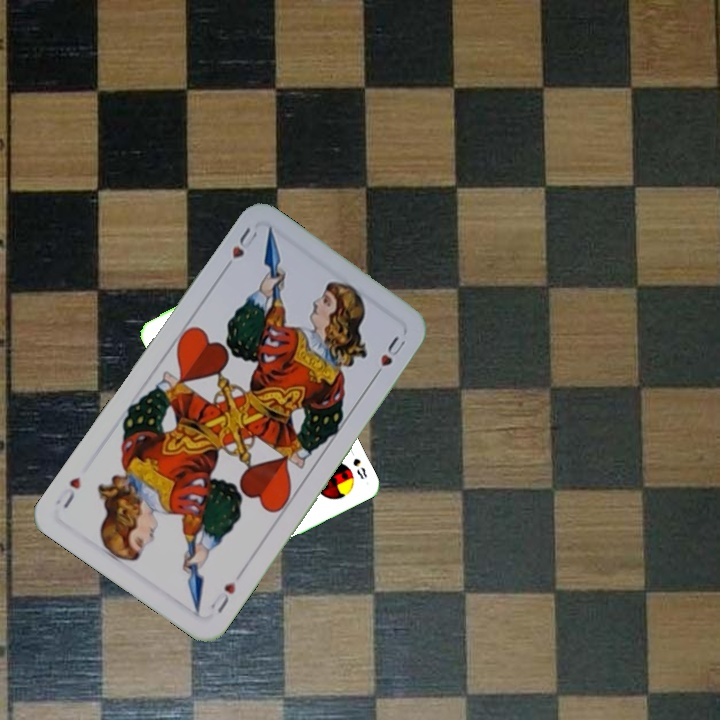HU: (219, 223, 260, 274), (206, 577, 239, 616)
S8: (346, 444, 370, 482)
